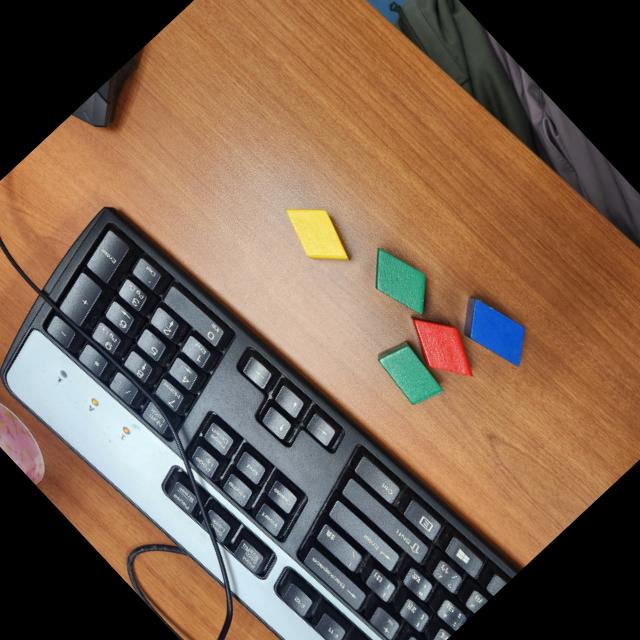blue: (448, 282, 544, 380)
green: (356, 236, 445, 326), (371, 332, 452, 414)
red: (396, 298, 490, 396)
yellow: (274, 190, 363, 280)
